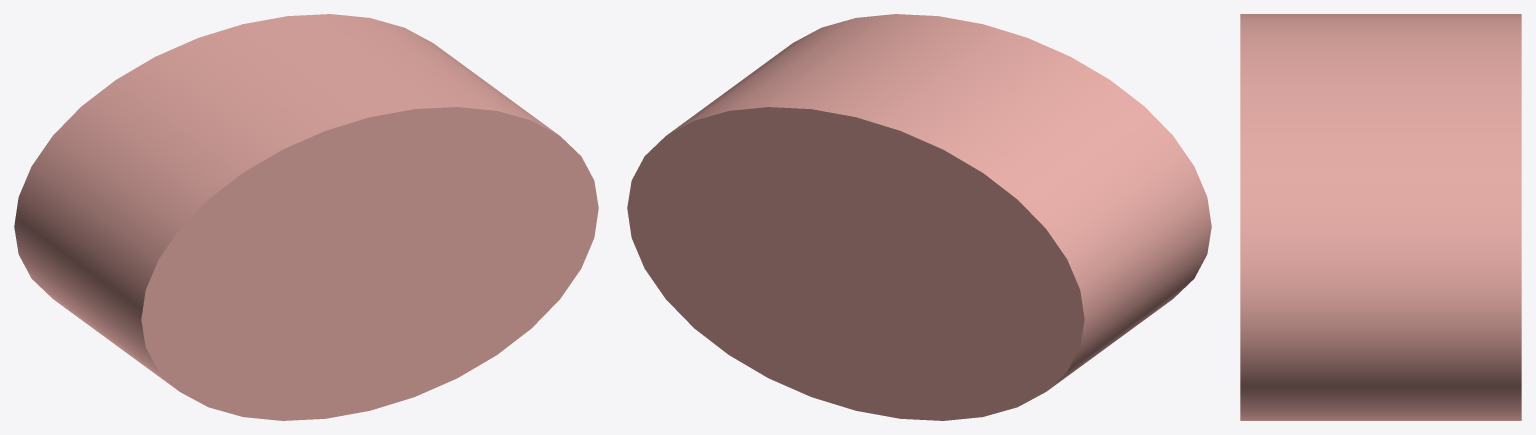
Rendered from outer label.fbx.
The picture shows the model from 3 angles, left to right: view 1: azimuth 30°, elevation 25°; view 2: azimuth 150°, elevation 25°; view 3: azimuth 270°, elevation 25°; orthographic projection. The views are drawn at different scales.
Visible parts, largest first — view 1: Cylinder.002; view 2: Cylinder.002; view 3: Cylinder.002.
Part boxes in pixels (bbox=[...]): Cylinder.002: bbox=[14, 14, 598, 420]; Cylinder.002: bbox=[627, 14, 1211, 420]; Cylinder.002: bbox=[1240, 14, 1521, 420].
Bounding box in the file's own units: 49.74 × 30.51 × 23.94.
